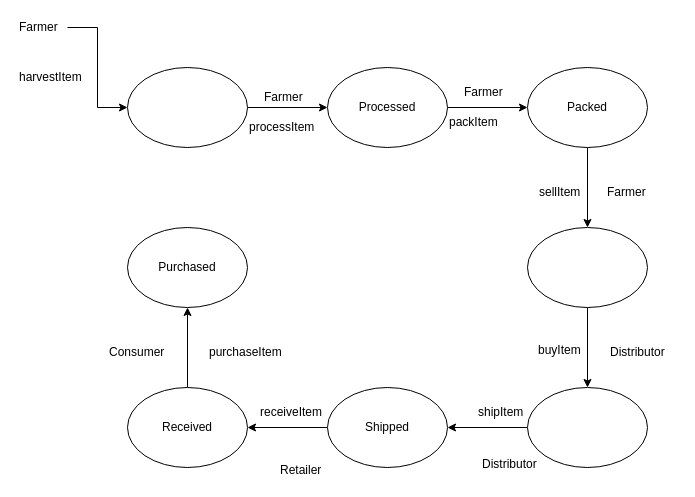
This 695x497 diagram has some shape labels left out. The centre of each missing label's shape, as x and y in pixels:
ForSale: pixel 587 267
Harvested: pixel 187 107
Sold: pixel 587 427
